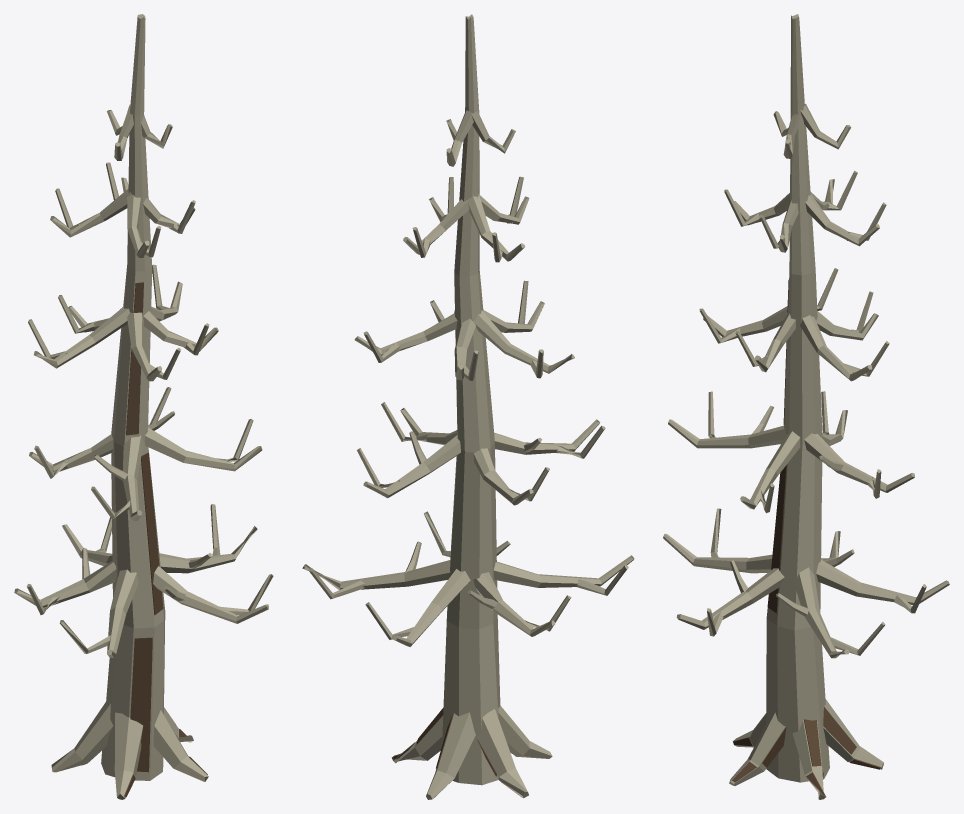
File: prop-tree-pine-dead.glb
The picture shows the model from 3 angles, left to right: view 1: azimuth 30°, elevation 25°; view 2: azimuth 150°, elevation 25°; view 3: azimuth 270°, elevation 25°; orthographic projection.
Visible parts, largest first — view 1: leafless_tree; view 2: leafless_tree; view 3: leafless_tree.
Part boxes in pixels (left/top/right/bottom): leafless_tree: left=14, top=14, right=273, bottom=799; leafless_tree: left=302, top=14, right=634, bottom=799; leafless_tree: left=663, top=14, right=949, bottom=799.
Bounding box in the file's own units: 0.7379 × 2.03 × 0.6989.
